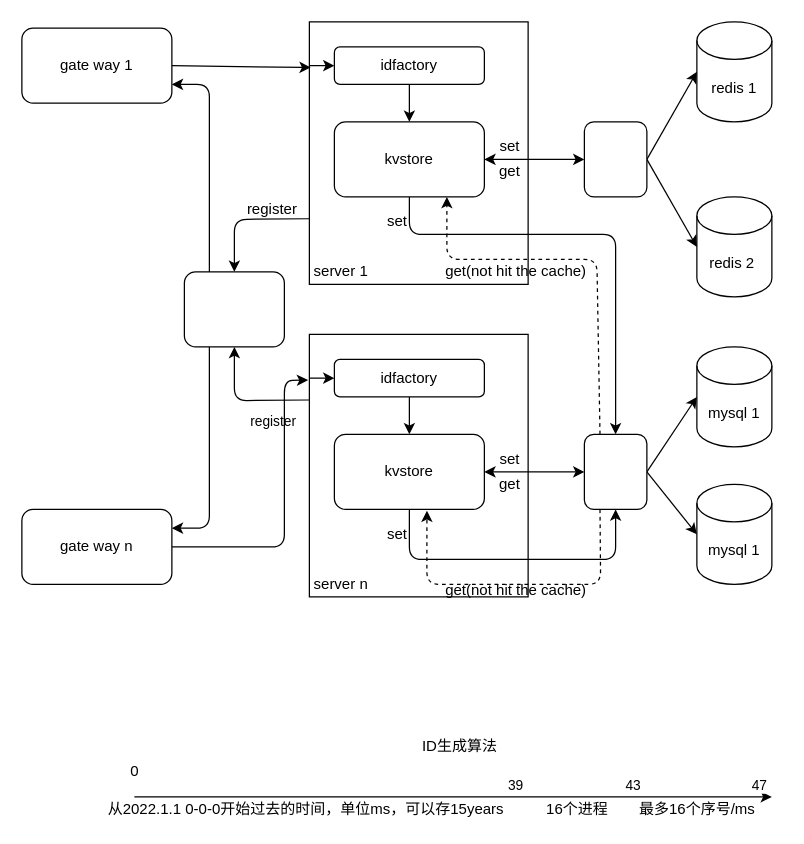
This 804x844 diagram has some shape labels left out. Each missing label, with the centre of its shape:
Mysql Proxy: pixel 615 471
Redis Proxy: pixel 615 159
services center: pixel 233 309
